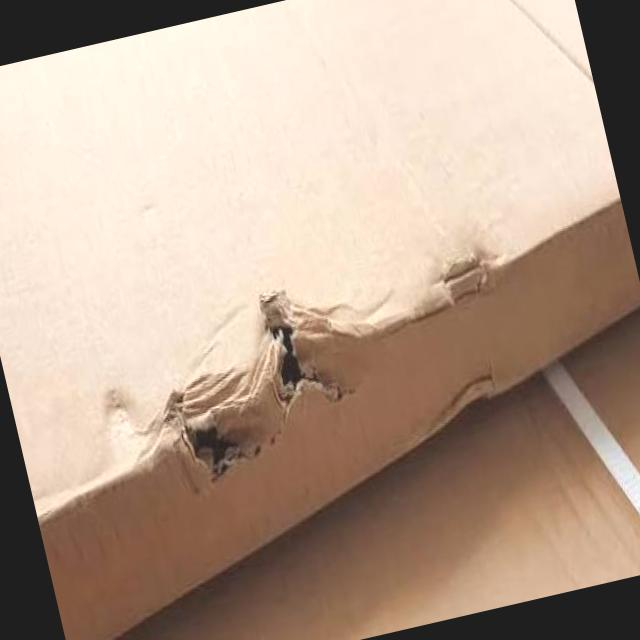package_damage: (118, 222, 560, 516)
